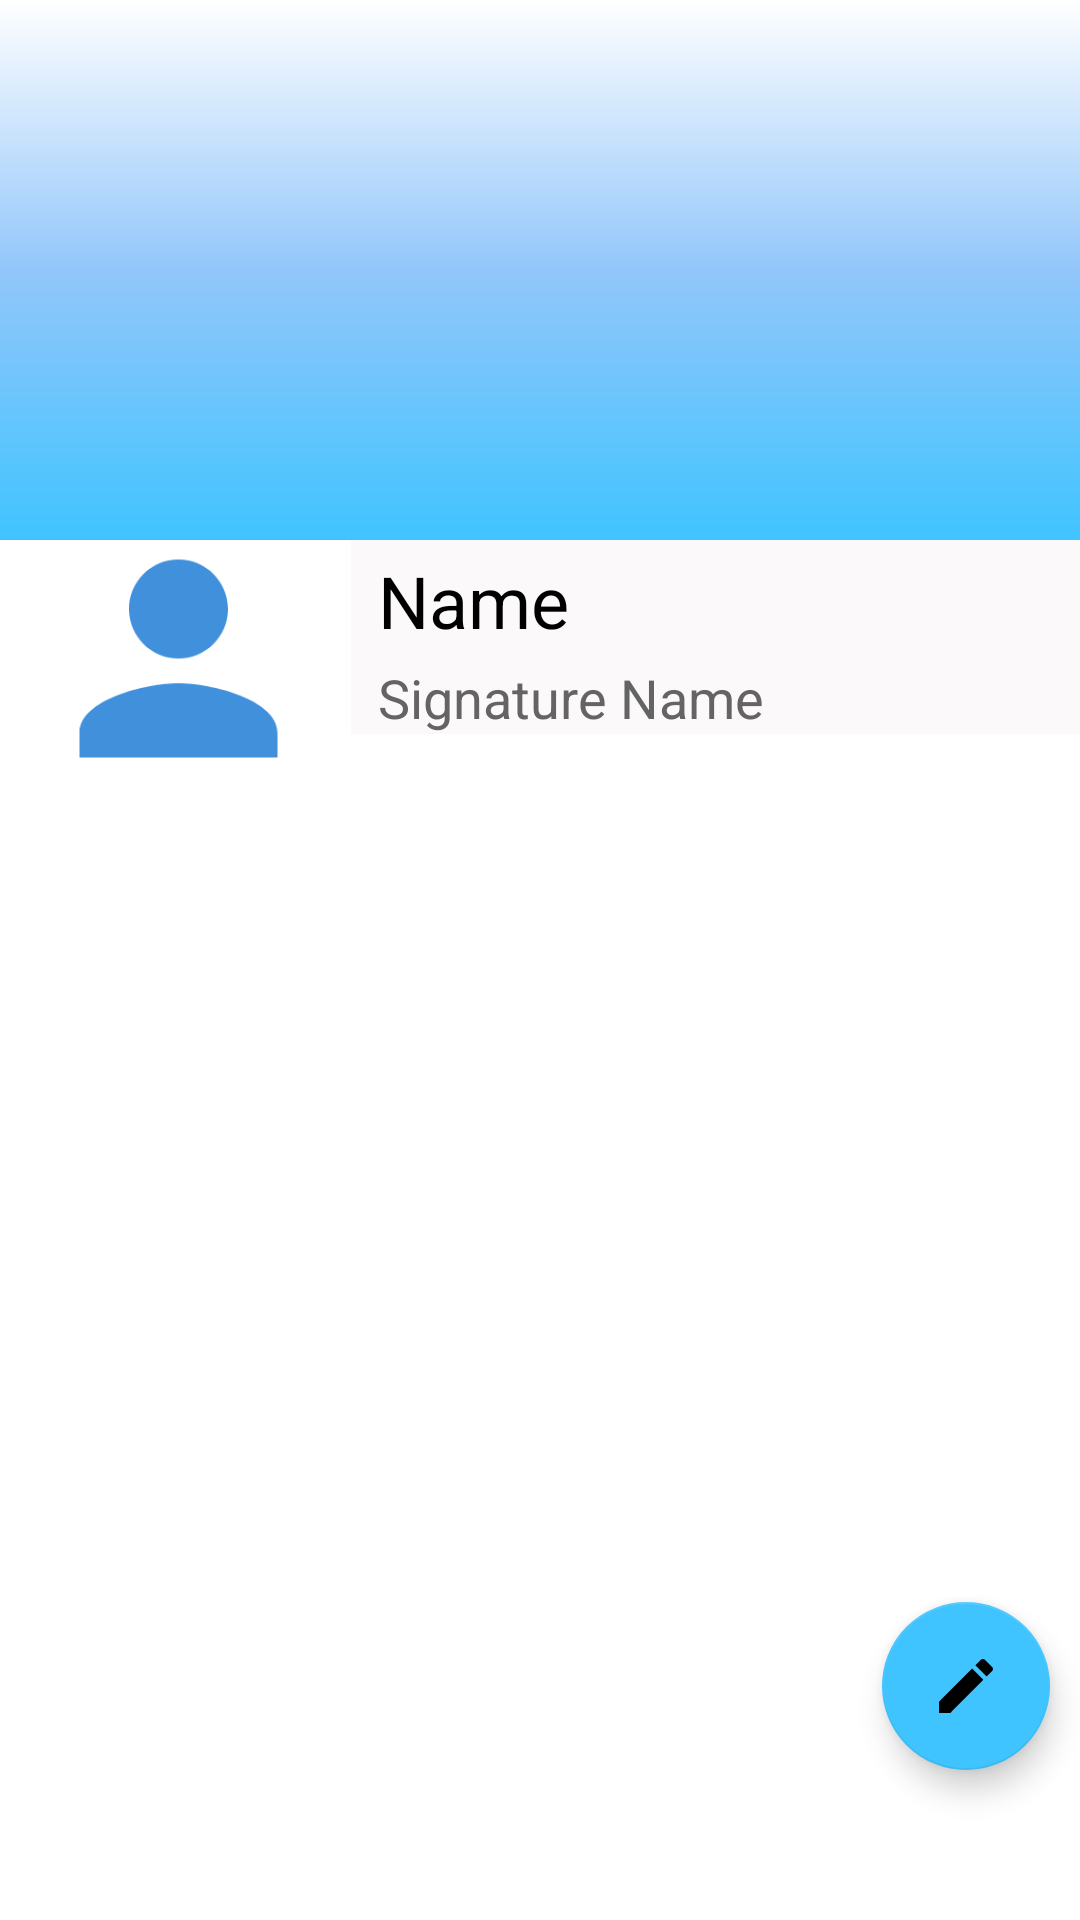

Screen size 1080w x 1920h. Icon name, then its box in pixels as (x1, y1, x2, y2):
edit: (882, 1602, 1050, 1770)
person: (79, 559, 278, 758)
